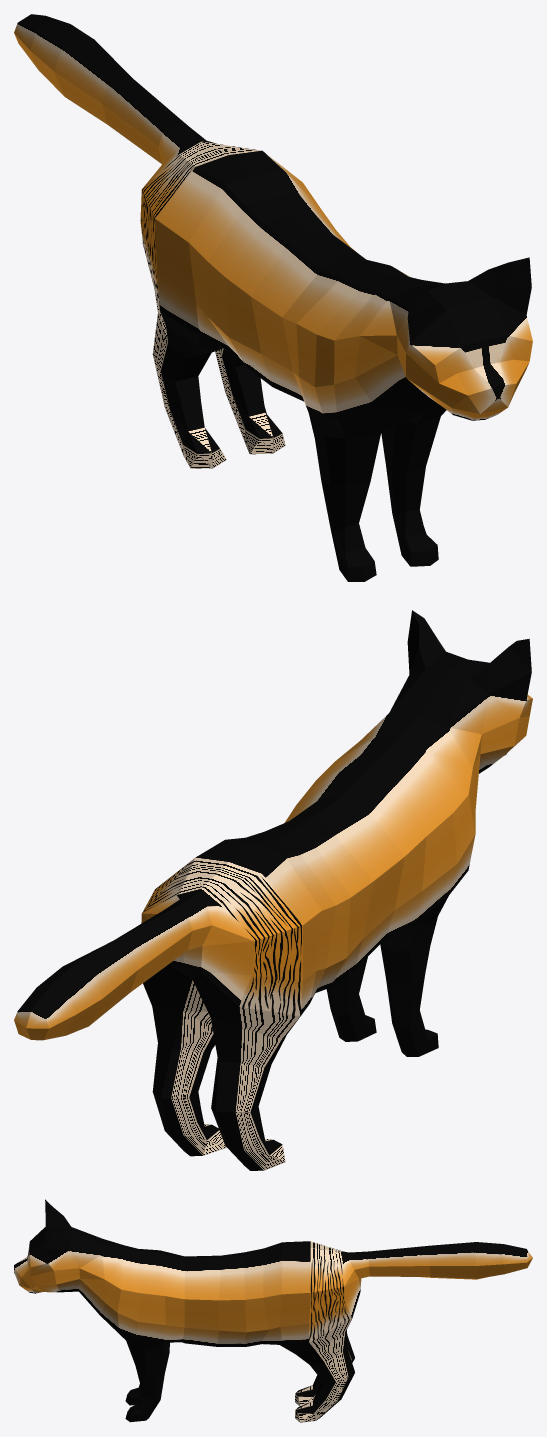
Rendered from cat.obj.
3 renders of one model, top to bottom at view 1: azimuth 30°, elevation 25°; view 2: azimuth 150°, elevation 25°; view 3: azimuth 270°, elevation 25°, orthographic. The views are drawn at different scales.
Visible parts, largest first — view 1: mesh_cat; view 2: mesh_cat; view 3: mesh_cat.
Part boxes in pixels (x1,y1,x2,y2): mesh_cat: (14, 14, 532, 581); mesh_cat: (14, 610, 532, 1170); mesh_cat: (14, 1199, 532, 1422).
Bounding box in the file's own units: 0.1211 × 0.2783 × 0.6708.
Materials: 1 (1 with a texture image).
